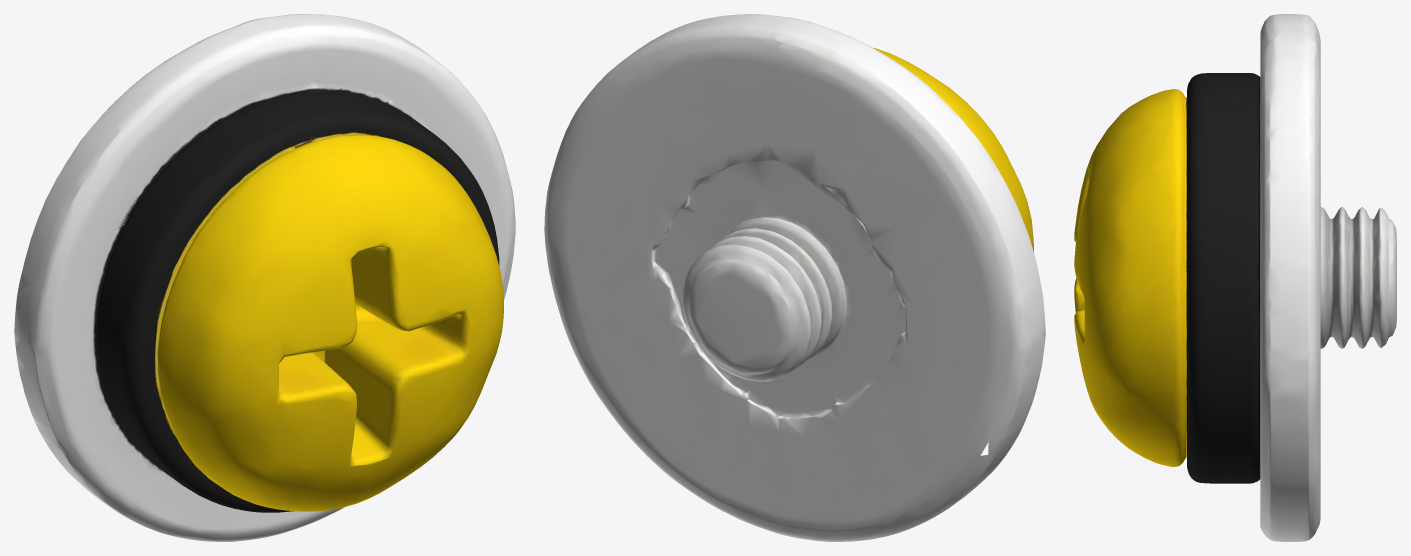
File: screw.glb
The picture shows the model from 3 angles, left to right: view 1: azimuth 30°, elevation 25°; view 2: azimuth 150°, elevation 25°; view 3: azimuth 270°, elevation 25°; orthographic projection. The views are drawn at different scales.
Visible parts, largest first — view 1: tripo_node_7af738fe-b7cf-4d46-9462-0a17b6dd6d11; view 2: tripo_node_7af738fe-b7cf-4d46-9462-0a17b6dd6d11; view 3: tripo_node_7af738fe-b7cf-4d46-9462-0a17b6dd6d11.
Boxes of the visible parts, bbox=[...] form: tripo_node_7af738fe-b7cf-4d46-9462-0a17b6dd6d11: bbox=[14, 14, 515, 541]; tripo_node_7af738fe-b7cf-4d46-9462-0a17b6dd6d11: bbox=[544, 14, 1045, 541]; tripo_node_7af738fe-b7cf-4d46-9462-0a17b6dd6d11: bbox=[1074, 14, 1396, 541].
Size of the model in its own units: 0.9792 by 0.9788 by 0.5966.
Materials: 1 (1 with a texture image).
